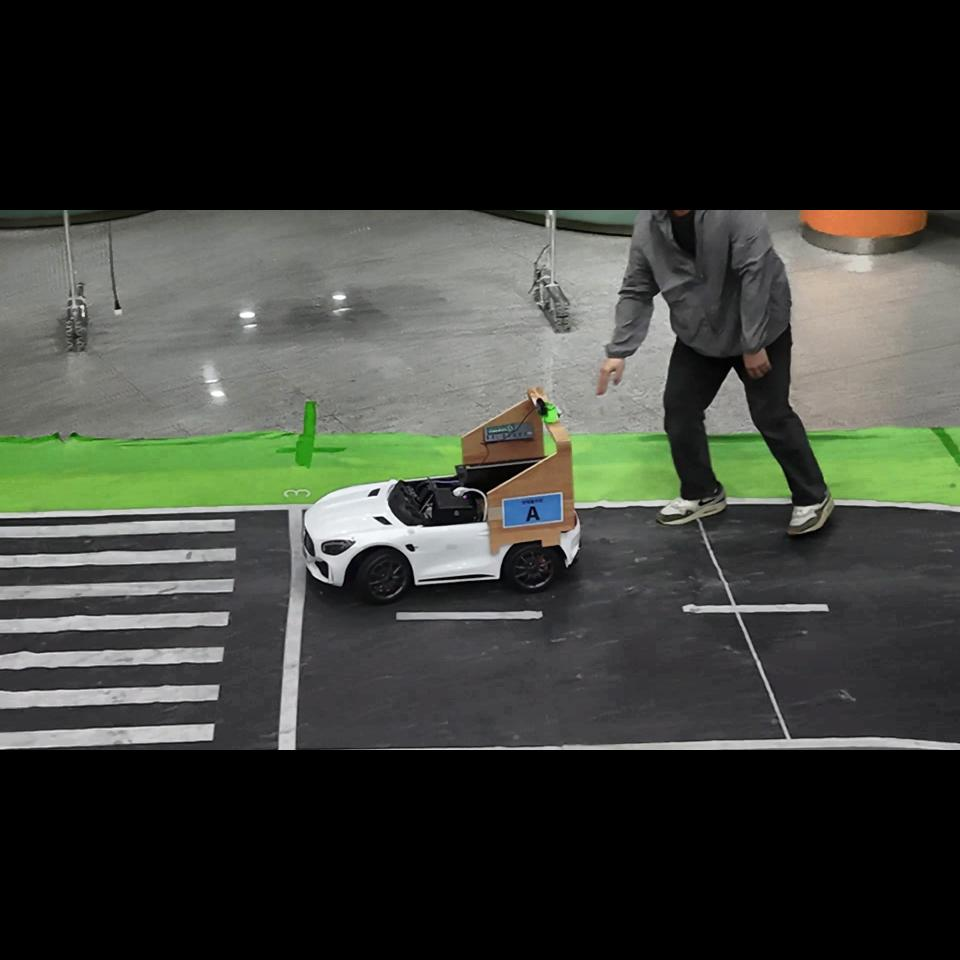broken_line: (396, 610, 543, 620), (682, 604, 829, 614)
crosswalk: (0, 519, 236, 750)
